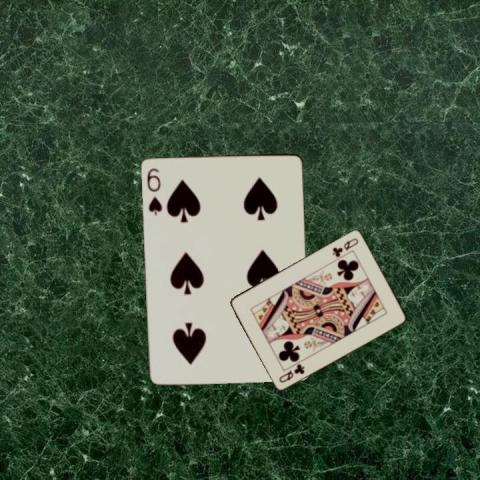6s: (143, 165, 163, 216)
Qc: (329, 235, 360, 258), (276, 361, 306, 384)
